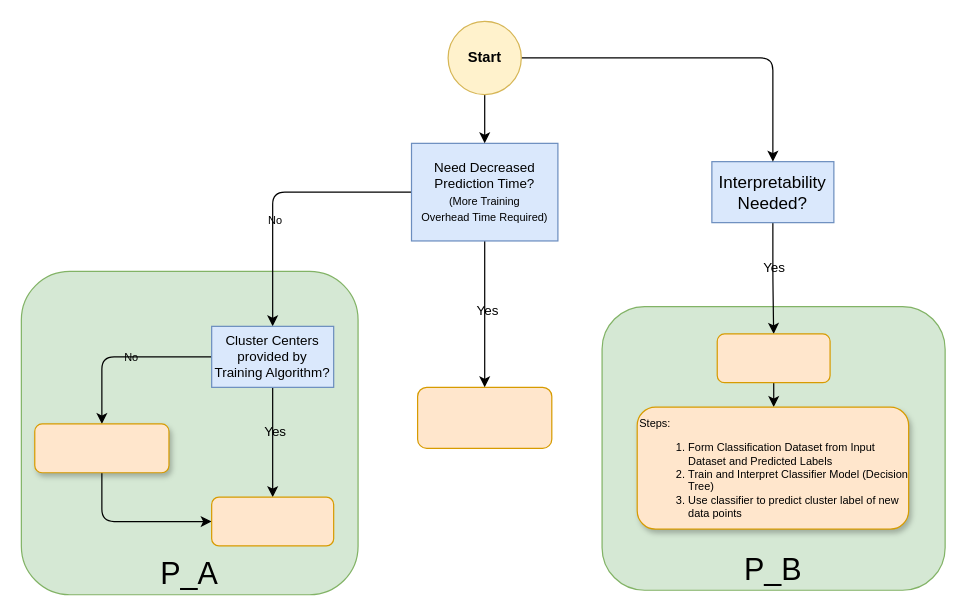
Some shapes in this 967 by 616 pixel diagram are drawn without their labels. The centre of each missing label's shape, as x and y in pixels:
"Aggregate data within each cluster to compute cluster centers" belongs at point (102, 449).
"Classifier Method" belongs at point (773, 358).
"Closest Cluster Method" belongs at point (272, 521).
"MinHash + LSH" belongs at point (484, 417).
